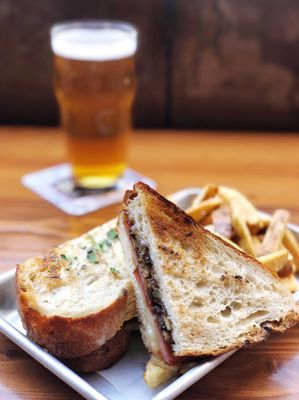soup: (15, 213, 140, 373)
